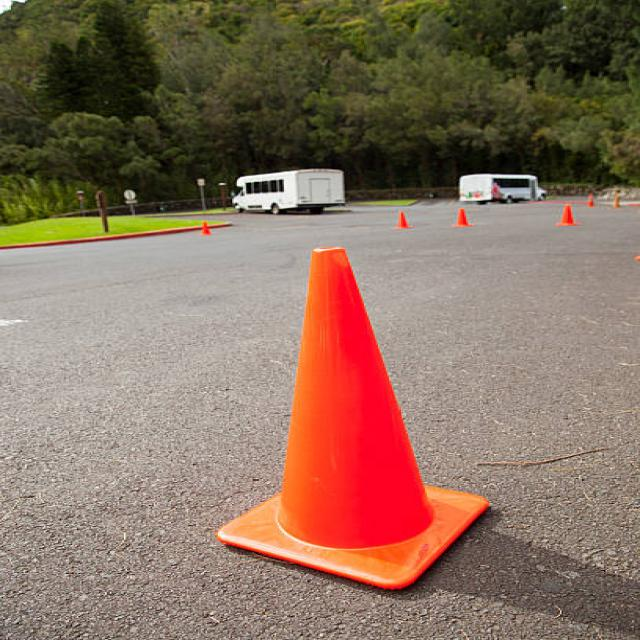Traffic Cone: (183, 228, 533, 610)
